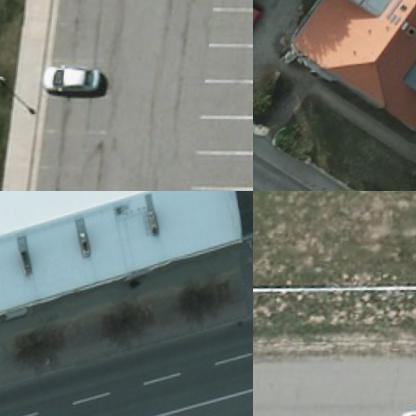car: (39, 63, 102, 102), (253, 2, 265, 55)
